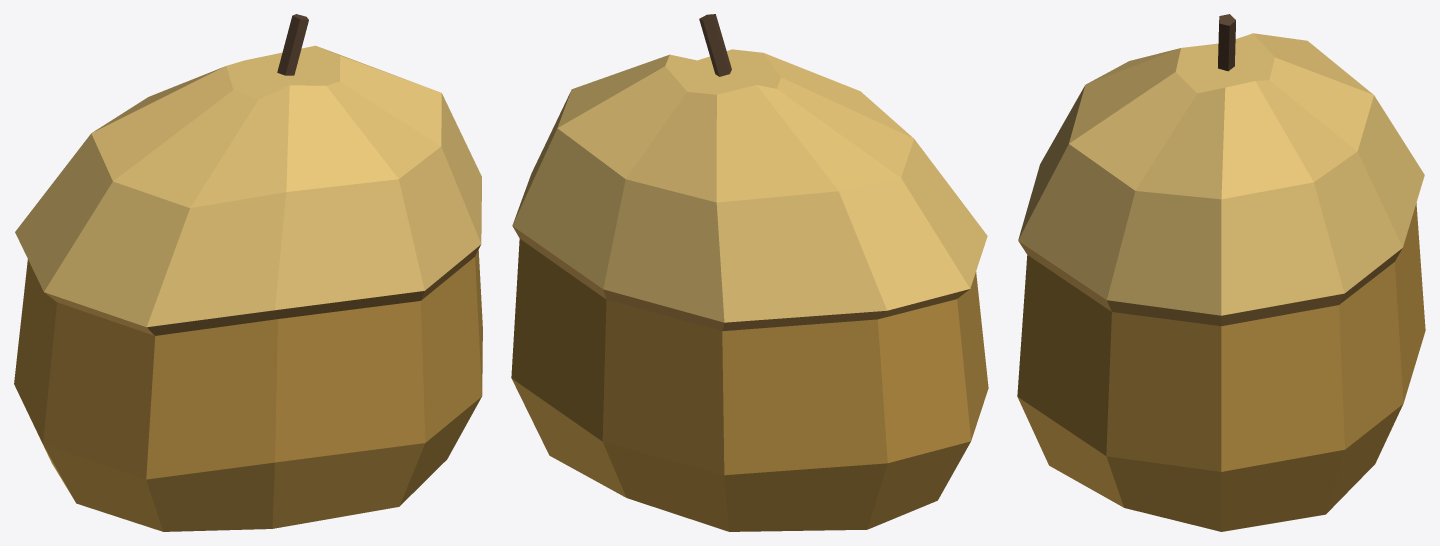
The model's file is peaked_hayrick.glb.
The picture shows the model from 3 angles, left to right: view 1: azimuth 30°, elevation 25°; view 2: azimuth 150°, elevation 25°; view 3: azimuth 270°, elevation 25°; orthographic projection. The views are drawn at different scales.
Visible parts, largest first — view 1: Peaked hayrick; view 2: Peaked hayrick; view 3: Peaked hayrick.
Boxes of the visible parts, x1,y1,x2,y2 form: Peaked hayrick: (14, 14, 482, 531); Peaked hayrick: (511, 14, 988, 531); Peaked hayrick: (1017, 14, 1425, 531).
Bounding box in the file's own units: 2.06 × 1.93 × 1.62.
